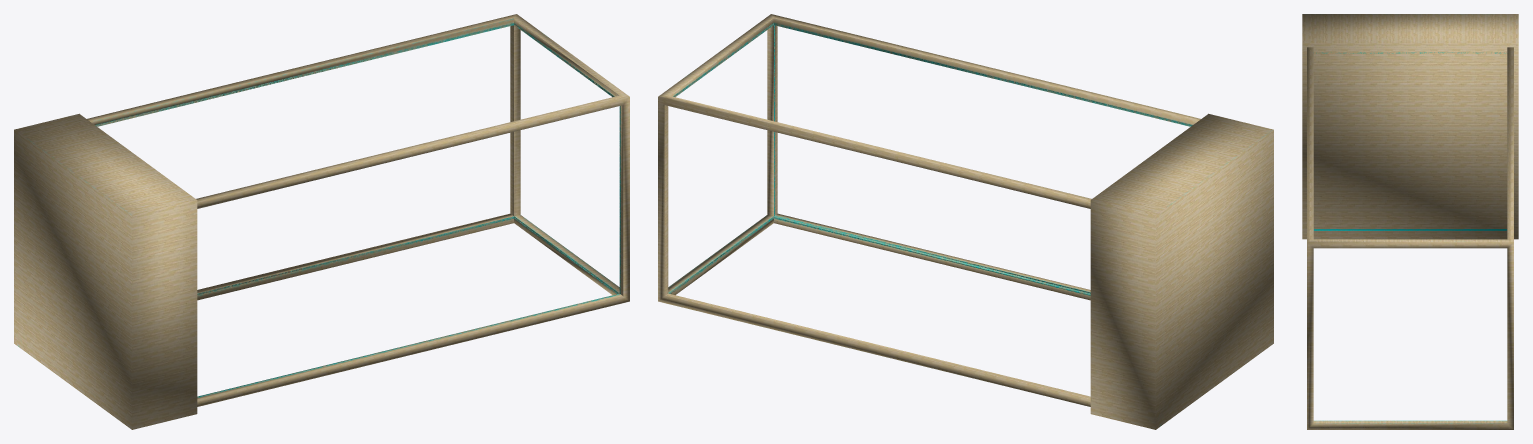
The picture shows the model from 3 angles, left to right: view 1: azimuth 30°, elevation 25°; view 2: azimuth 150°, elevation 25°; view 3: azimuth 270°, elevation 25°; orthographic projection. The views are drawn at different scales.
Size of the model in its own units: 1.22 by 0.5 by 0.5.
Materials: 1 (1 with a texture image).
